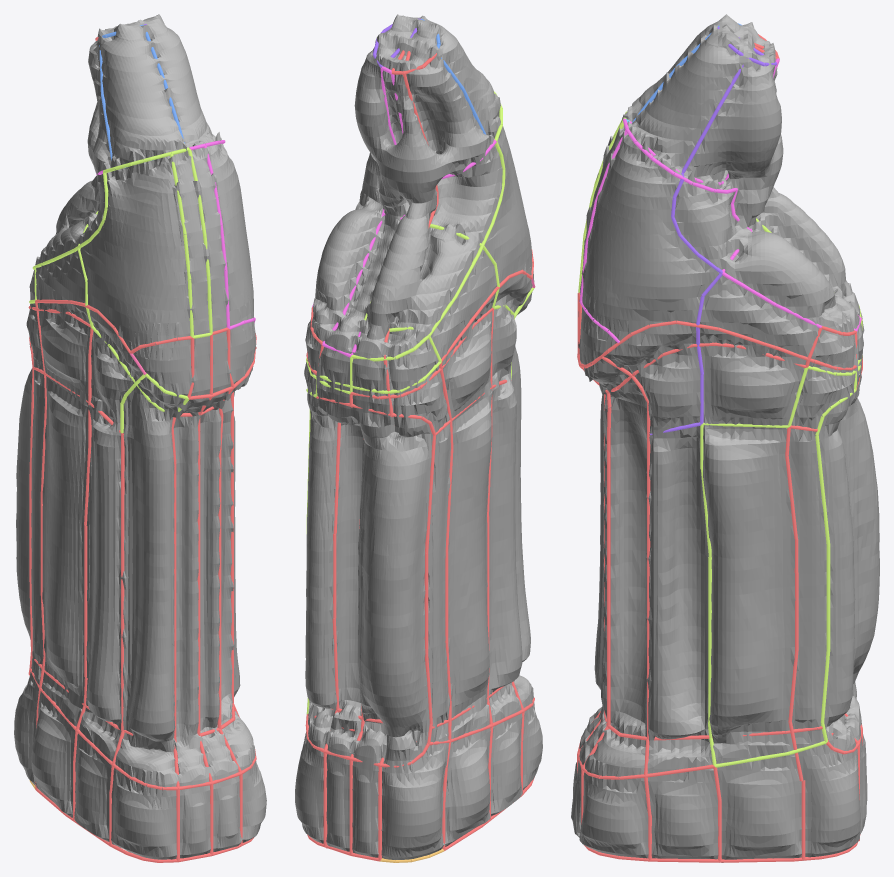
The model's file is flowrep_bottle.gltf.
3 renders of one model, left to right at view 1: azimuth 30°, elevation 25°; view 2: azimuth 150°, elevation 25°; view 3: azimuth 270°, elevation 25°, orthographic. The views are drawn at different scales.
Size of the model in its own units: 0.2123 by 0.9492 by 0.329.
